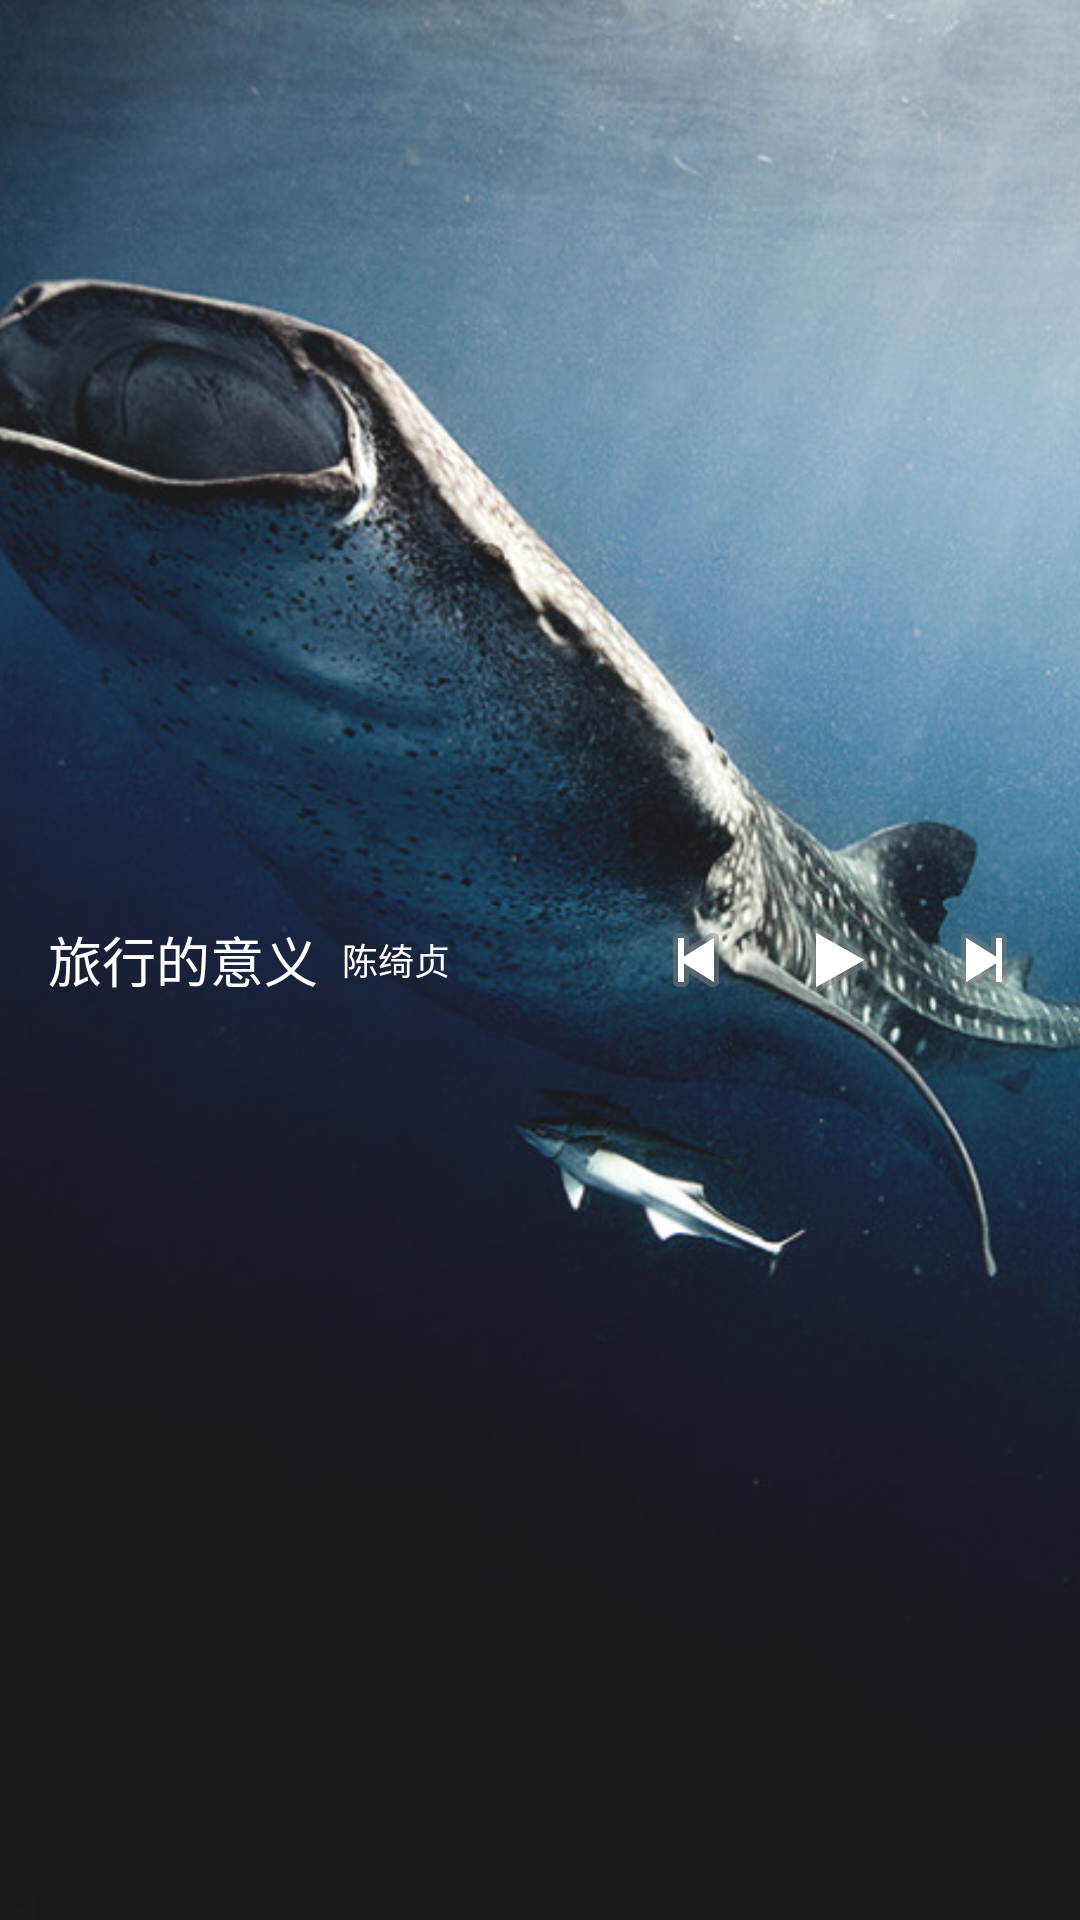

Icons on this 1080px×1920px Android screen, each with the point to tap as point (x, y):
next: point (984, 960)
play: point (840, 960)
previous: point (696, 960)
